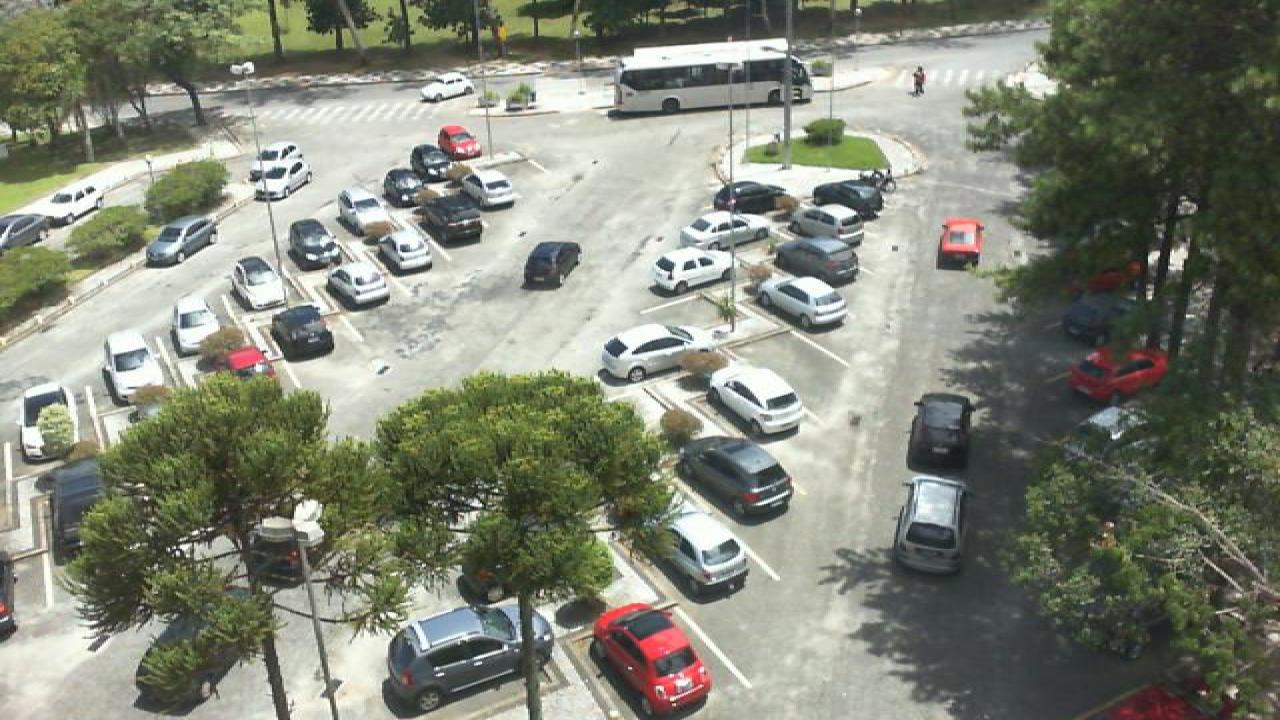Car: (382, 605, 548, 717), (592, 602, 714, 719), (674, 434, 796, 520), (648, 509, 750, 600), (890, 475, 970, 575), (704, 364, 806, 438), (596, 320, 696, 384), (1066, 344, 1170, 402), (906, 392, 976, 469), (758, 274, 850, 329), (18, 384, 78, 463), (22, 181, 110, 234), (100, 328, 160, 404), (770, 236, 860, 286), (646, 248, 736, 294), (142, 214, 220, 266), (168, 296, 226, 358), (788, 204, 866, 250), (676, 213, 770, 251), (274, 305, 336, 360), (326, 255, 392, 306), (228, 254, 286, 312), (366, 224, 432, 272), (710, 180, 794, 217), (416, 196, 482, 243), (284, 217, 342, 269), (522, 239, 582, 289), (812, 179, 886, 218), (934, 217, 986, 269), (0, 210, 64, 252), (334, 182, 388, 231), (248, 160, 310, 199), (460, 167, 516, 207), (378, 166, 430, 206), (434, 123, 484, 162), (224, 342, 272, 382), (408, 142, 454, 182), (254, 139, 302, 170)
